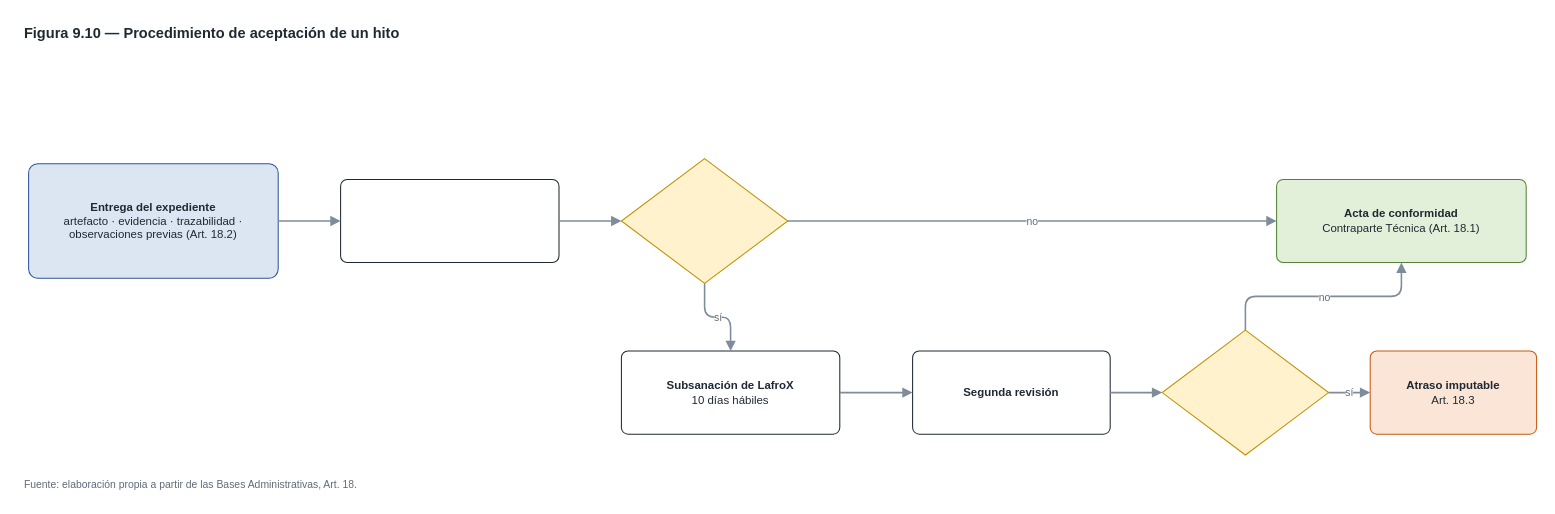
Some shapes in this 1555 by 514 pixel diagram are drawn without their labels. Here are the shapes that lost their labels. From the top down, the box of each, then its label:
(340, 178, 559, 263): Revisión del CLIENTE 10 días hábiles
(620, 158, 788, 283): ¿Observaciones?
(1161, 329, 1329, 455): ¿Misma observación?
